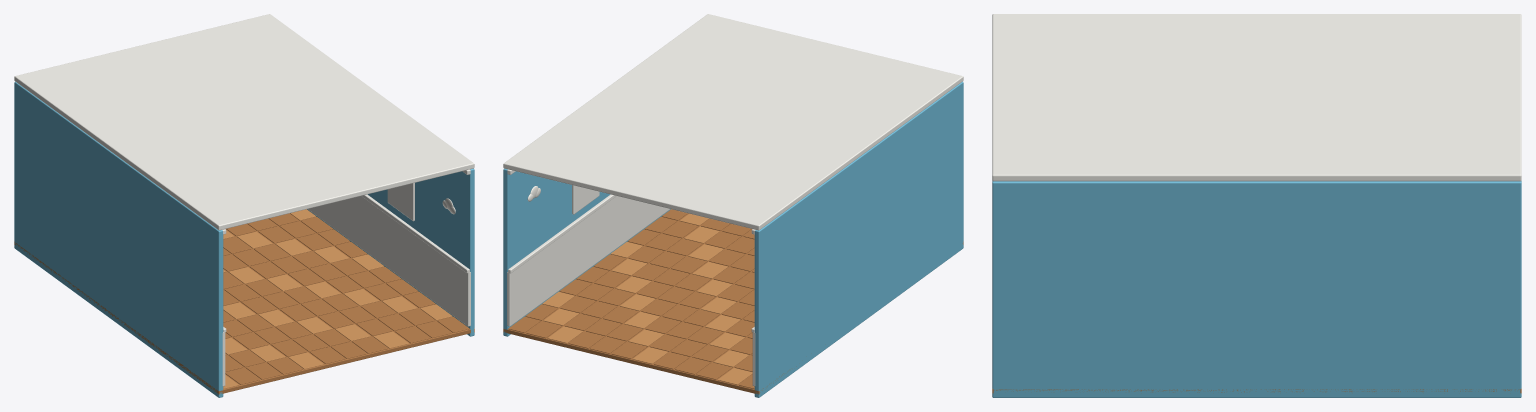
The model's file is cloud_bedroom_gallery_shell.glb.
3 views of the same model, side by side, from view 1: azimuth 30°, elevation 25°; view 2: azimuth 150°, elevation 25°; view 3: azimuth 270°, elevation 25° (orthographic). The views are drawn at different scales.
Parts seen in each view (by area): view 1: Continuous Cream Ceiling, Left Blue Wallpaper, Right White Wainscot, Right Blue Wallpaper, Continuous Bedroom Subfloor, Right Blank Wall Canvas 1, Right Chair Rail; view 2: Continuous Cream Ceiling, Left Blue Wallpaper, Right White Wainscot, Right Blue Wallpaper, Continuous Bedroom Subfloor, Right Chair Rail, Right Blank Wall Canvas 2; view 3: Right Blue Wallpaper, Continuous Cream Ceiling.
Boxes of the visible parts, box(x1,y1,x2,y2) form: Continuous Cream Ceiling: box(14, 14, 474, 230); Left Blue Wallpaper: box(14, 81, 223, 397); Right White Wainscot: box(308, 196, 470, 326); Right Blue Wallpaper: box(307, 168, 474, 336); Continuous Bedroom Subfloor: box(14, 213, 474, 394); Right Blank Wall Canvas 1: box(387, 183, 414, 221); Right Chair Rail: box(361, 194, 469, 273); Continuous Cream Ceiling: box(503, 14, 963, 230); Left Blue Wallpaper: box(754, 81, 963, 397); Right White Wainscot: box(507, 196, 669, 326); Right Blue Wallpaper: box(503, 168, 670, 336); Continuous Bedroom Subfloor: box(503, 213, 963, 394); Right Chair Rail: box(508, 194, 616, 273); Right Blank Wall Canvas 2: box(572, 185, 599, 214); Right Blue Wallpaper: box(992, 181, 1521, 397); Continuous Cream Ceiling: box(992, 14, 1521, 181).
Size of the model in its own units: 13 by 8.38 by 18.
